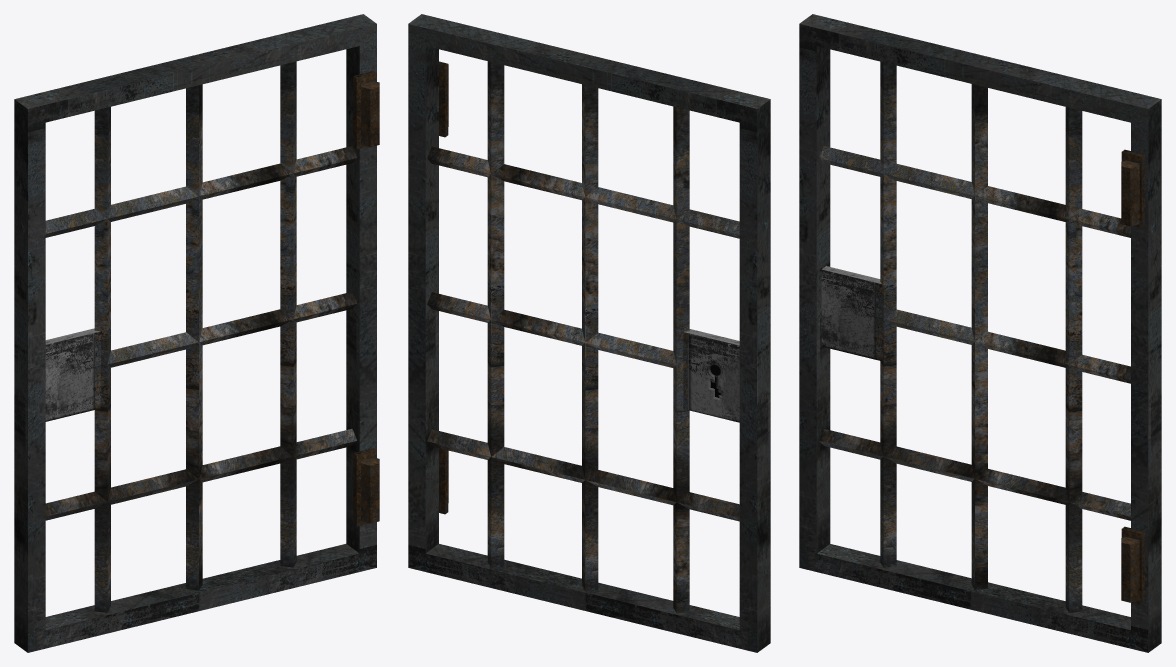
The model's file is CellDoor.fbx.
3 renders of one model, left to right at view 1: azimuth 30°, elevation 25°; view 2: azimuth 150°, elevation 25°; view 3: azimuth 330°, elevation 25°, orthographic.
Visible parts, largest first — view 1: DungeonCellDoor_Mesh; view 2: DungeonCellDoor_Mesh; view 3: DungeonCellDoor_Mesh.
Boxes of the visible parts, x1=… form: DungeonCellDoor_Mesh: x1=14, y1=14, x2=379, y2=652; DungeonCellDoor_Mesh: x1=408, y1=14, x2=770, y2=652; DungeonCellDoor_Mesh: x1=799, y1=14, x2=1161, y2=652.
Bounding box in the file's own units: 1.44 × 2.15 × 0.1696.
